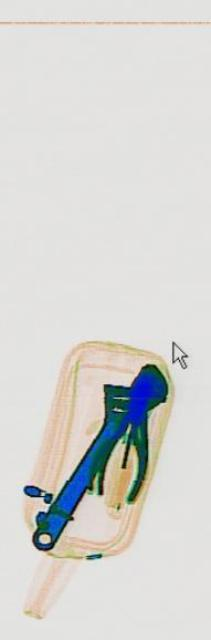Wrench: (23, 310, 166, 580)
